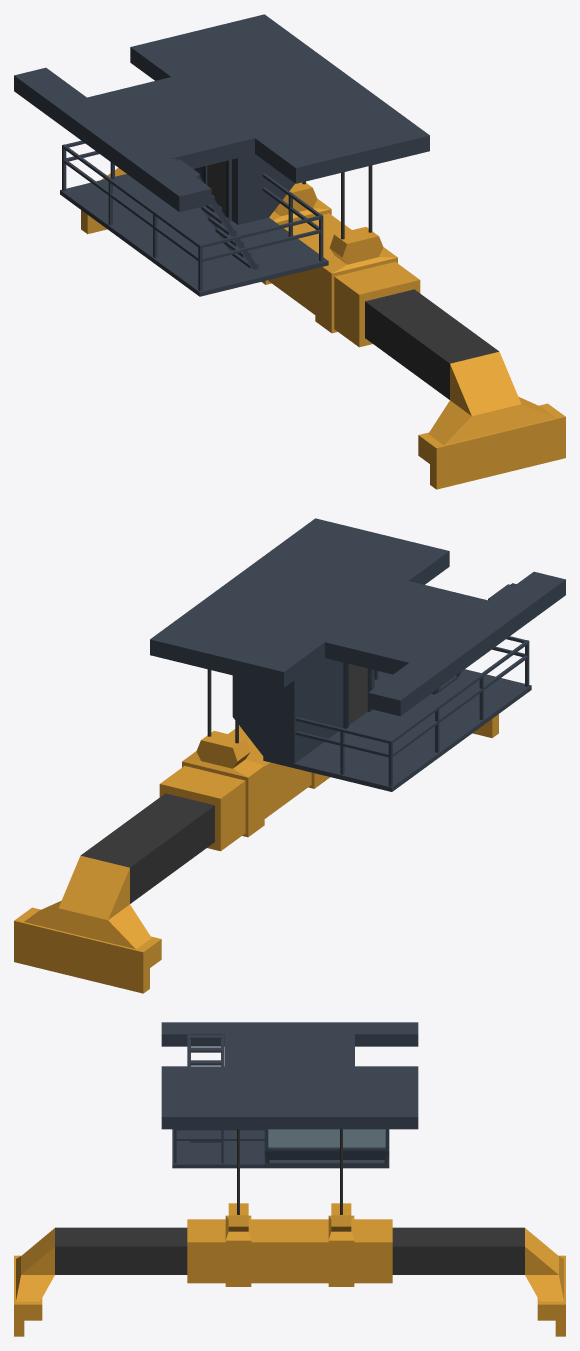
The model's file is SM_Buildings_Port_04_Crane_01.fbx.
3 renders of one model, top to bottom at view 1: azimuth 30°, elevation 25°; view 2: azimuth 150°, elevation 25°; view 3: azimuth 270°, elevation 25°, orthographic. The views are drawn at different scales.
Parts seen in each view (by area): view 1: SM_Buildings_Port_04_Crane_01; view 2: SM_Buildings_Port_04_Crane_01; view 3: SM_Buildings_Port_04_Crane_01.
Boxes of the visible parts, x1,y1,x2,y2 form: SM_Buildings_Port_04_Crane_01: (14, 14, 565, 489); SM_Buildings_Port_04_Crane_01: (14, 518, 565, 993); SM_Buildings_Port_04_Crane_01: (14, 1022, 565, 1336).
Bounding box in the file's own units: 590 × 509 × 1247.
